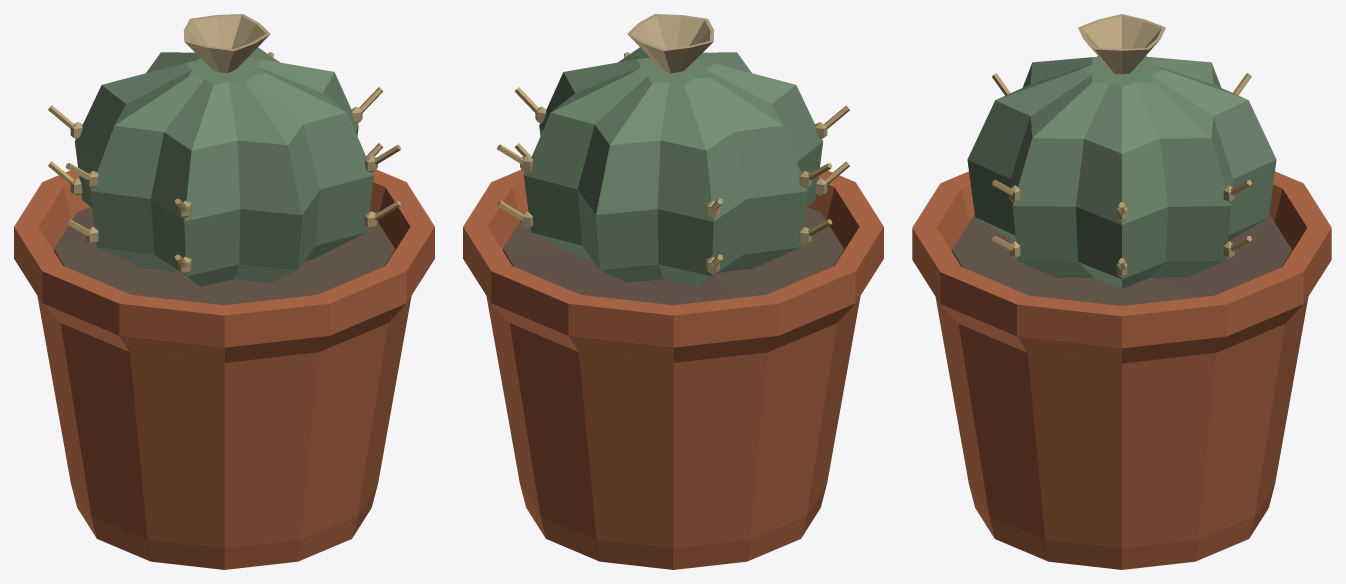
File: new-baldianum.glb
3 views of the same model, side by side, from view 1: azimuth 30°, elevation 25°; view 2: azimuth 150°, elevation 25°; view 3: azimuth 270°, elevation 25° (orthographic).
Parts seen in each view (by area): view 1: new-baldianum/review-terra-vessel, new-baldianum/ribbed-stem-001, new-baldianum/review-rooted-soil, new-baldianum/hollow-corolla-026; view 2: new-baldianum/review-terra-vessel, new-baldianum/ribbed-stem-001, new-baldianum/review-rooted-soil, new-baldianum/hollow-corolla-026; view 3: new-baldianum/review-terra-vessel, new-baldianum/ribbed-stem-001, new-baldianum/review-rooted-soil, new-baldianum/hollow-corolla-026.
Part boxes in pixels (bbox=[...]): new-baldianum/review-terra-vessel: bbox=[14, 169, 434, 569]; new-baldianum/ribbed-stem-001: bbox=[74, 47, 374, 286]; new-baldianum/review-rooted-soil: bbox=[54, 207, 394, 305]; new-baldianum/hollow-corolla-026: bbox=[183, 14, 270, 73]; new-baldianum/review-terra-vessel: bbox=[463, 167, 883, 569]; new-baldianum/ribbed-stem-001: bbox=[523, 47, 823, 286]; new-baldianum/review-rooted-soil: bbox=[503, 207, 843, 305]; new-baldianum/hollow-corolla-026: bbox=[627, 14, 714, 73]; new-baldianum/review-terra-vessel: bbox=[912, 171, 1331, 569]; new-baldianum/ribbed-stem-001: bbox=[967, 56, 1276, 288]; new-baldianum/review-rooted-soil: bbox=[952, 214, 1291, 305]; new-baldianum/hollow-corolla-026: bbox=[1078, 14, 1165, 74].
Bounding box in the file's own units: 0.19 × 0.237 × 0.19.
Materials: 7 (7 with a texture image).
